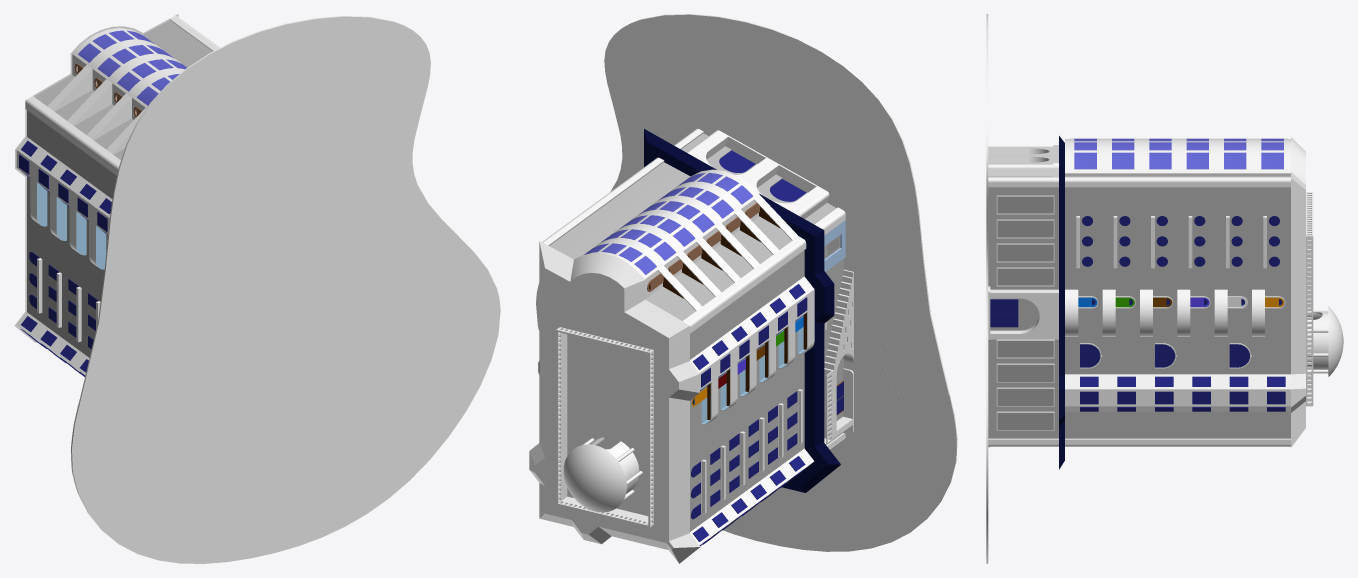
The model's file is edificio 1.fbx.
The picture shows the model from 3 angles, left to right: view 1: azimuth 30°, elevation 25°; view 2: azimuth 150°, elevation 25°; view 3: azimuth 270°, elevation 25°; orthographic projection. The views are drawn at different scales.
Parts seen in each view (by area): view 1: Boss-Extrude1, building, sw-corner-trim, roof; view 2: Boss-Extrude1, building, roof, Boss-Extrude3, awning, gazebo-roof, roof-railing, south-doorway-arches, west-staircase, sw-corner-trim, se-corner-trim, gazebo (+2 smaller); view 3: building, roof, se-corner-trim, ne-corner-trim, east-doorway-arch, south-doorway-arches, awning, roof-railing, Boss-Extrude1, gazebo, gazebo-roof.
Boxes of the visible parts, x1,y1,x2,y2 form: Boss-Extrude1: (71, 16, 500, 563); building: (16, 20, 212, 376); sw-corner-trim: (25, 96, 120, 175); roof: (14, 14, 178, 342); Boss-Extrude1: (536, 14, 957, 551); building: (538, 133, 843, 546); roof: (529, 241, 700, 563); Boss-Extrude3: (844, 196, 956, 481); awning: (644, 129, 840, 492); gazebo-roof: (563, 444, 626, 512); roof-railing: (556, 327, 653, 527); south-doorway-arches: (687, 130, 829, 218); west-staircase: (824, 269, 853, 439); sw-corner-trim: (682, 207, 845, 333); se-corner-trim: (542, 128, 703, 245); gazebo: (590, 437, 639, 493); building: (988, 138, 1290, 438); roof: (1291, 137, 1305, 447); se-corner-trim: (988, 176, 1290, 187); ne-corner-trim: (988, 438, 1290, 446); east-doorway-arch: (990, 289, 1058, 339); south-doorway-arches: (988, 146, 1053, 176); awning: (1059, 136, 1064, 469); roof-railing: (1306, 192, 1313, 406); Boss-Extrude1: (986, 14, 988, 563); gazebo: (1307, 311, 1328, 369); gazebo-roof: (1328, 306, 1343, 376).
Size of the model in its own units: 1515 by 1775 by 1146.
